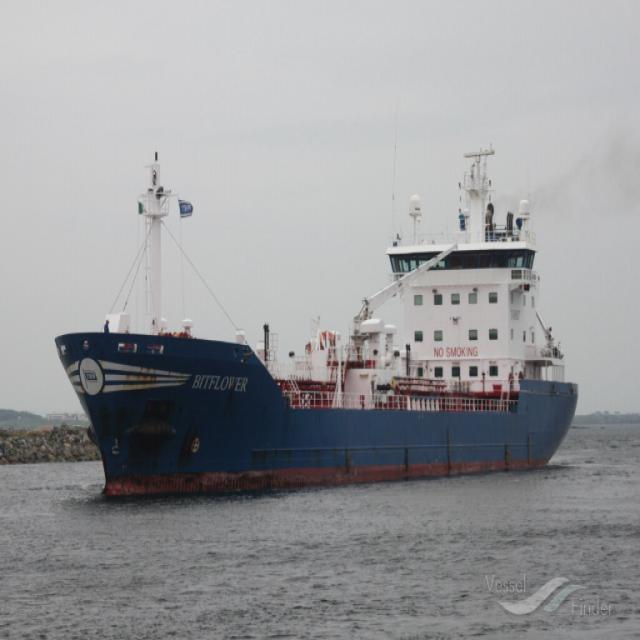OCR: (188, 364, 254, 397)
